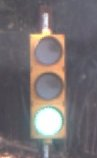Green: (27, 13, 64, 146)
